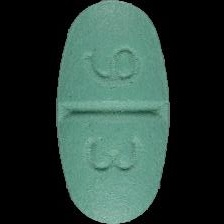76237-284: (0, 0, 224, 224)
